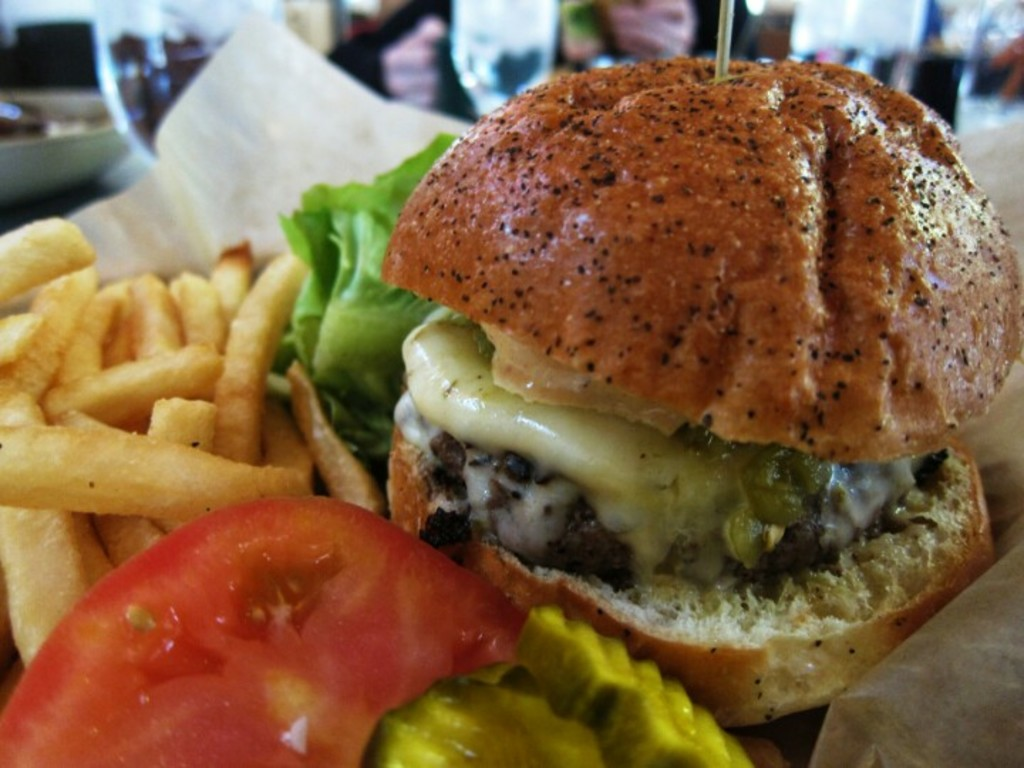Hamburger: (382, 58, 1022, 733)
